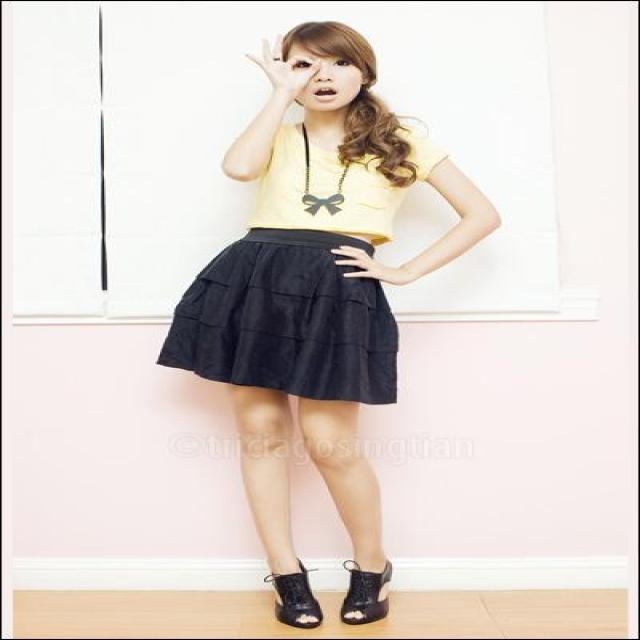shirt: (261, 123, 451, 235)
shoe: (272, 561, 390, 622)
skirt: (157, 227, 397, 403)
